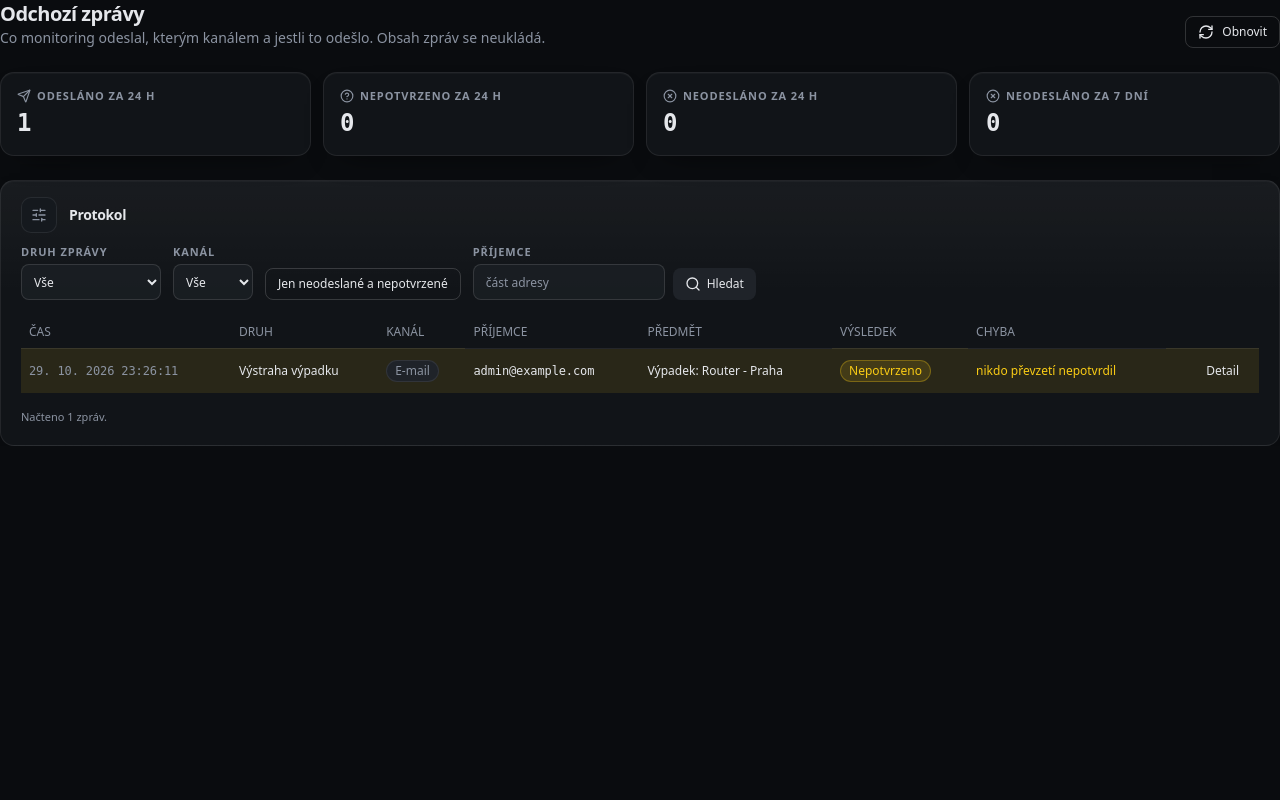
Scenario: Odchozí zprávy › řádek ze staršího serveru bez výsledku doručení se nikdy netváří jako odeslaný
The width and height of the screenshot is (1280, 800).
Expected: the text "Nepotvrzeno" is shown, [840,360,931,382]
Click the button "Detail": (1223, 371) [1194,355,1251,387]
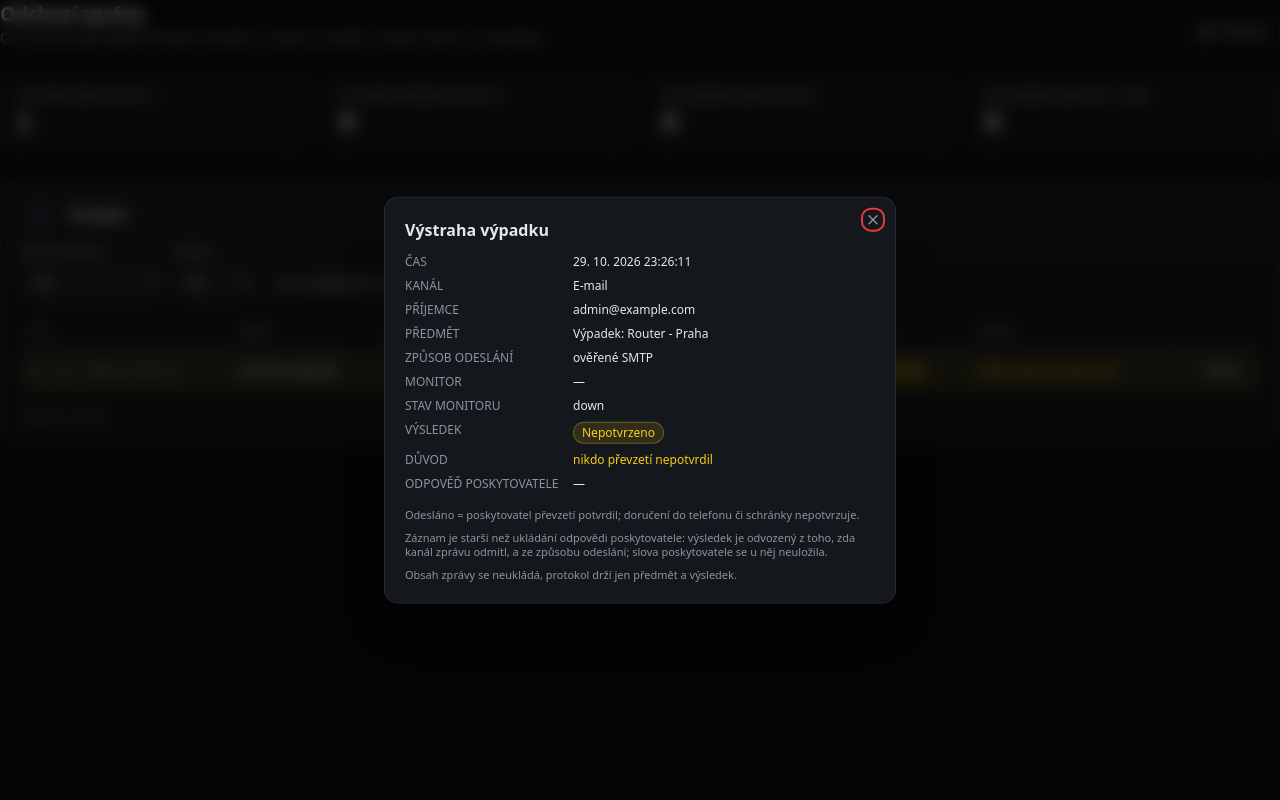
Result: the dialog shows "odvozený" at [405,529,855,559]
